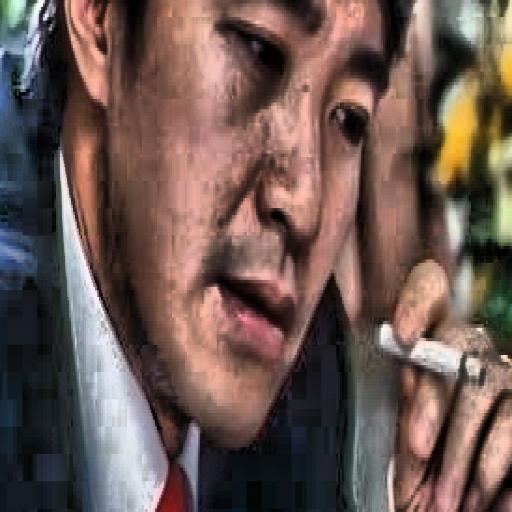Merokok: (379, 324, 482, 382)
Rokok: (0, 0, 512, 512)
